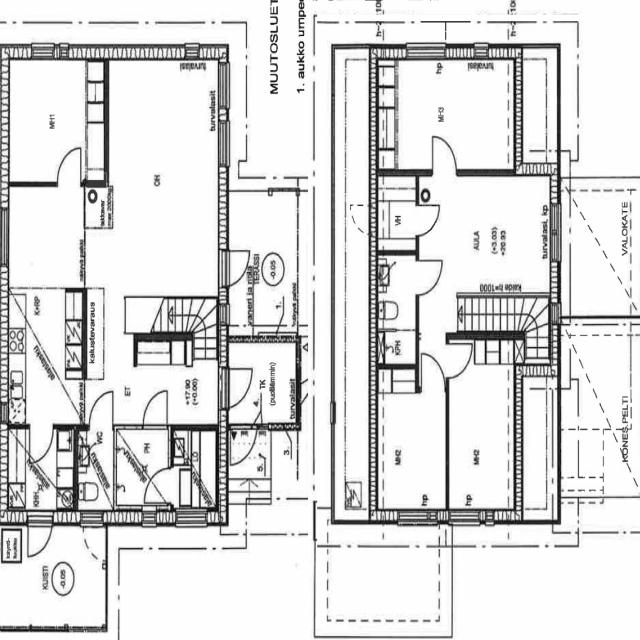door: (217, 369, 255, 407), (27, 509, 52, 561), (218, 250, 253, 286), (230, 423, 256, 468), (143, 388, 167, 430), (57, 148, 81, 188), (432, 136, 456, 176), (144, 468, 172, 502), (29, 423, 52, 463), (415, 260, 442, 294), (90, 390, 112, 430), (446, 344, 472, 377), (422, 354, 444, 393), (415, 205, 439, 235)
